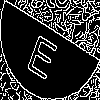E: (25, 25, 62, 81)
